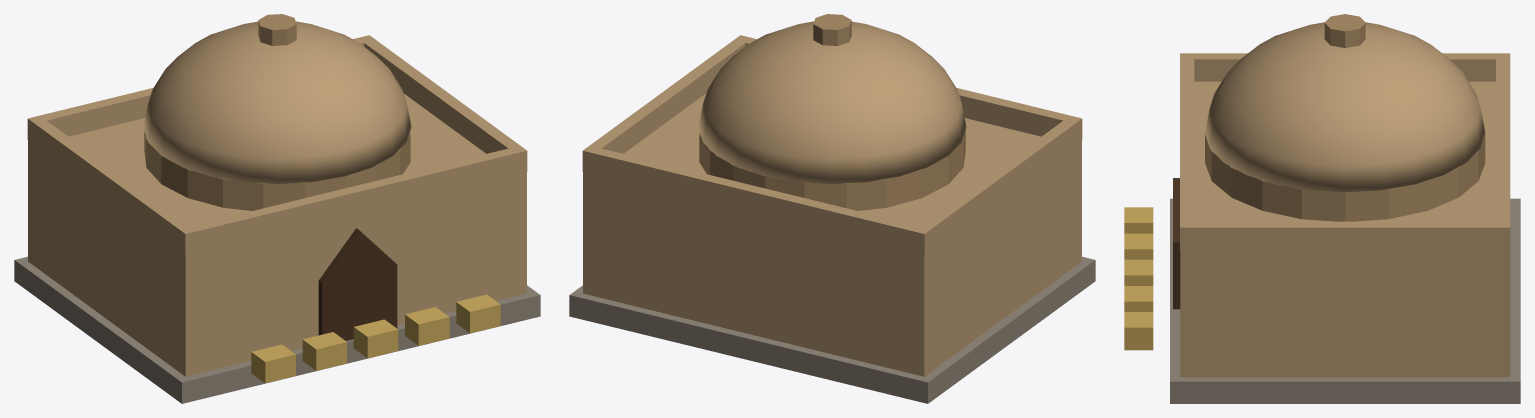
Rendered from granary.glb.
3 renders of one model, left to right at view 1: azimuth 30°, elevation 25°; view 2: azimuth 150°, elevation 25°; view 3: azimuth 270°, elevation 25°, orthographic. The views are drawn at different scales.
Parts seen in each view (by area): view 1: Granary; view 2: Granary; view 3: Granary.
Part boxes in pixels (box(x1,y1,x2,y2)): Granary: box(14, 14, 540, 403); Granary: box(569, 14, 1095, 403); Granary: box(1124, 14, 1520, 403).
Bounding box in the file's own units: 10.5 × 7.75 × 9.6.
